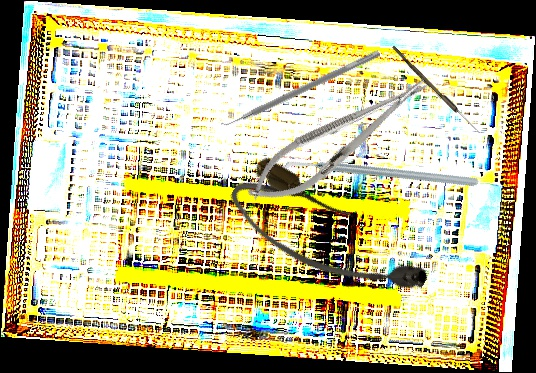Cannula: (219, 150, 438, 325)
Chopper: (275, 90, 481, 261)
Needle Holder: (236, 62, 441, 219)
Spatula Surgical: (218, 42, 381, 133)
Surgical Spoon: (390, 45, 482, 135)
